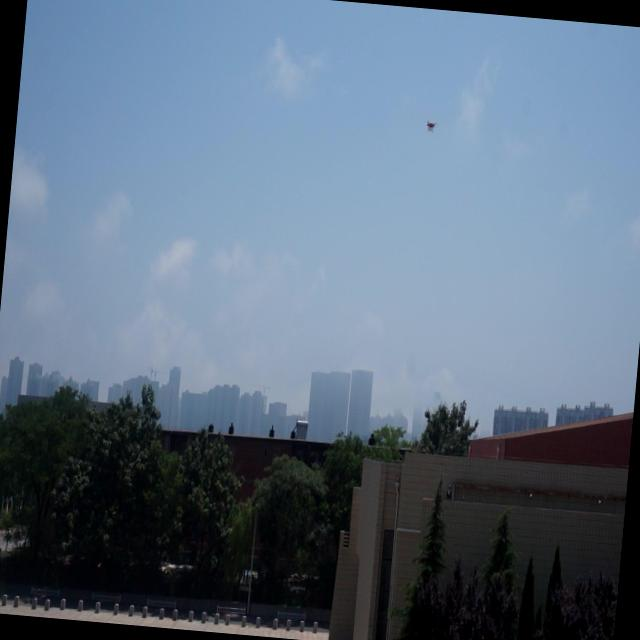drone: (422, 111, 438, 138)
